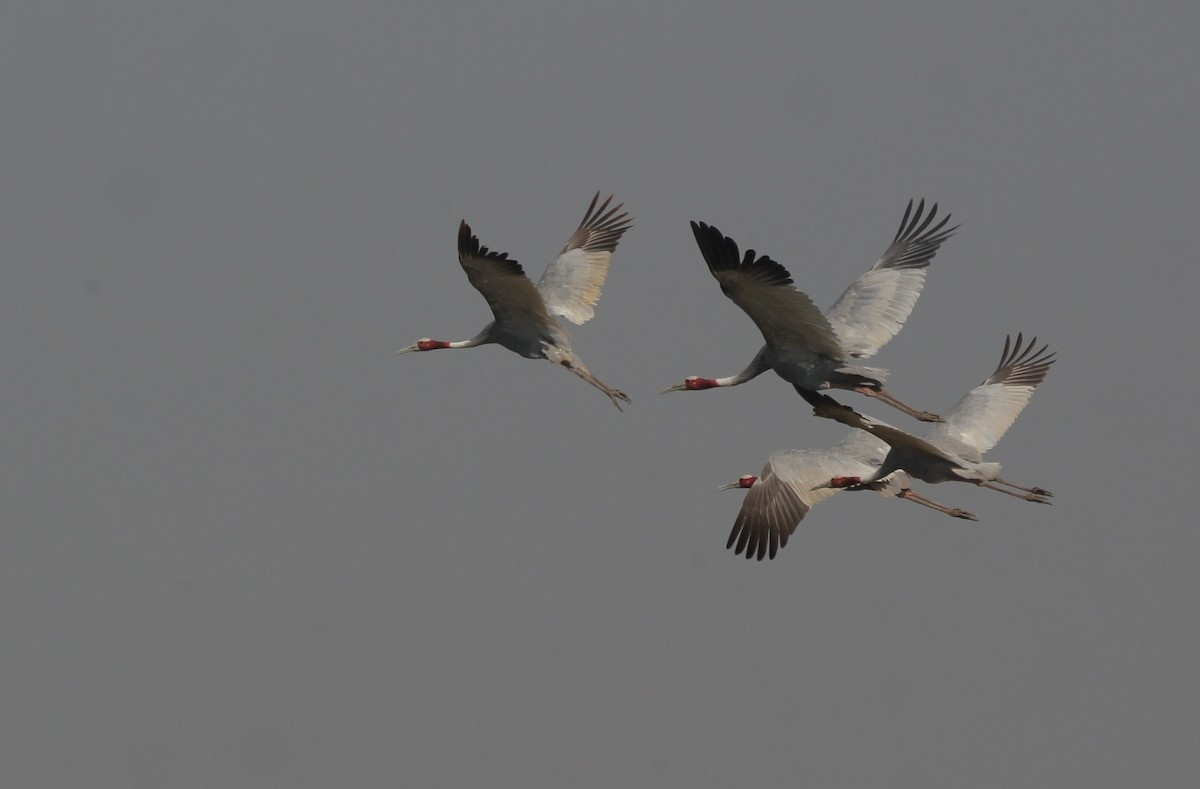crane: (661, 196, 978, 420), (393, 183, 662, 429), (799, 381, 1080, 516), (713, 451, 827, 554)
